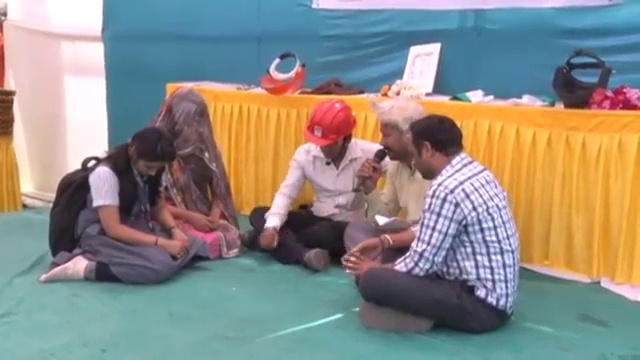helmet: (303, 97, 359, 148)
helmet_off: (410, 116, 465, 183), (375, 98, 425, 166), (122, 125, 177, 184), (162, 87, 213, 149)
helmet_on: (303, 97, 359, 166)
person: (335, 116, 520, 341), (37, 125, 203, 287), (241, 98, 374, 272), (152, 89, 246, 261), (341, 95, 428, 272)
